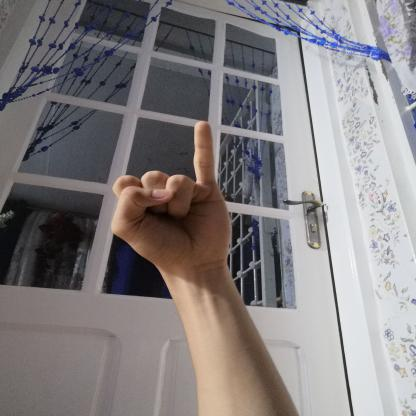MEEM: (92, 111, 246, 280)
